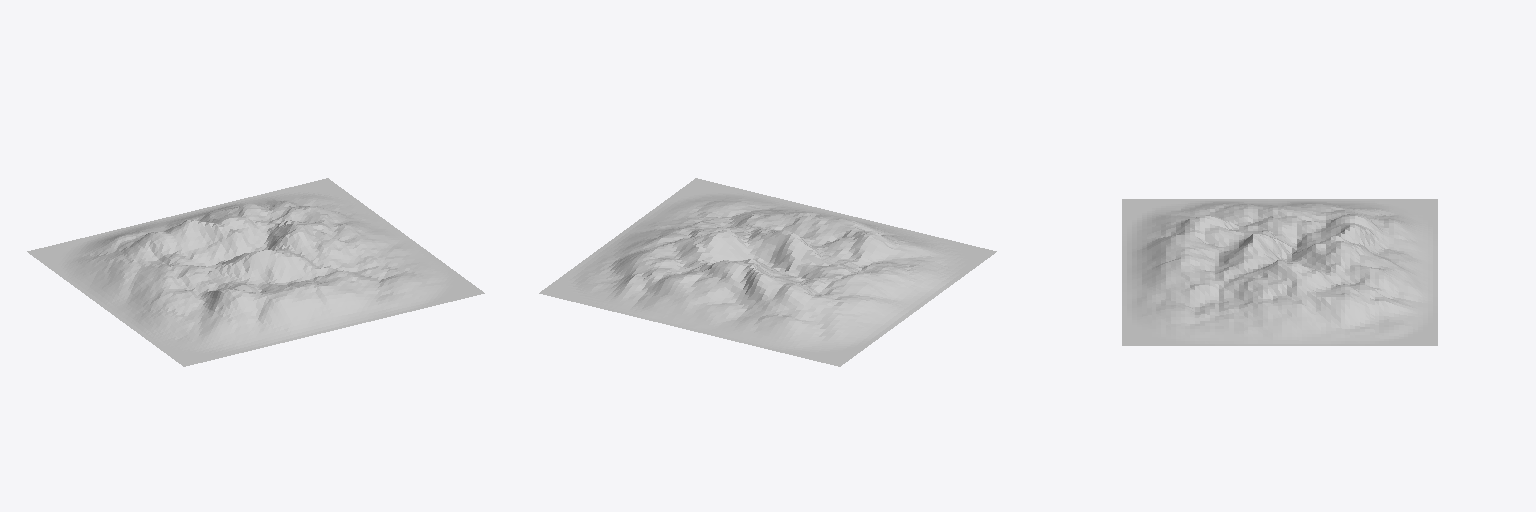
Rendered from grasslandscape.obj.
3 renders of one model, left to right at view 1: azimuth 30°, elevation 25°; view 2: azimuth 150°, elevation 25°; view 3: azimuth 270°, elevation 25°, orthographic.
Parts seen in each view (by area): view 1: Landscape.001; view 2: Landscape.001; view 3: Landscape.001.
Part boxes in pixels (left/top/right/bottom): Landscape.001: left=27, top=178, right=484, bottom=366; Landscape.001: left=539, top=178, right=996, bottom=366; Landscape.001: left=1122, top=199, right=1437, bottom=345.
Size of the model in its own units: 3.8 by 0.3989 by 3.44.